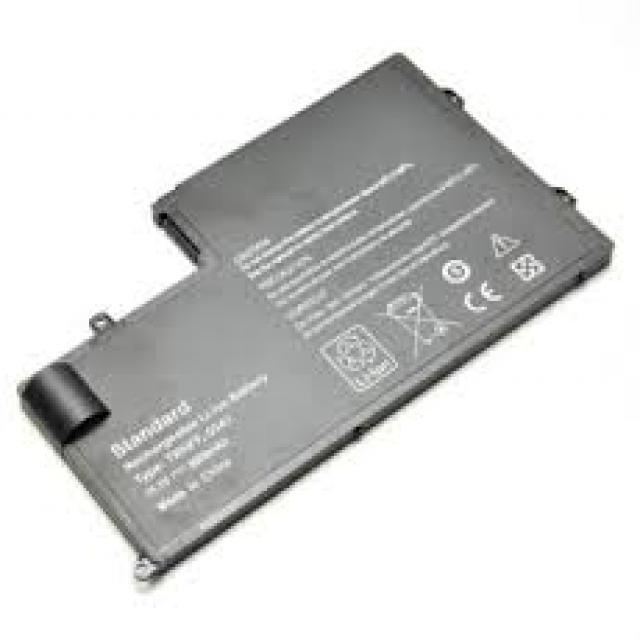battery: (12, 57, 620, 592)
